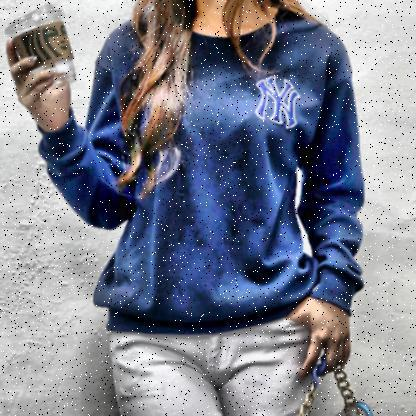sweater: (34, 8, 364, 339)
trousers: (104, 312, 325, 416)
